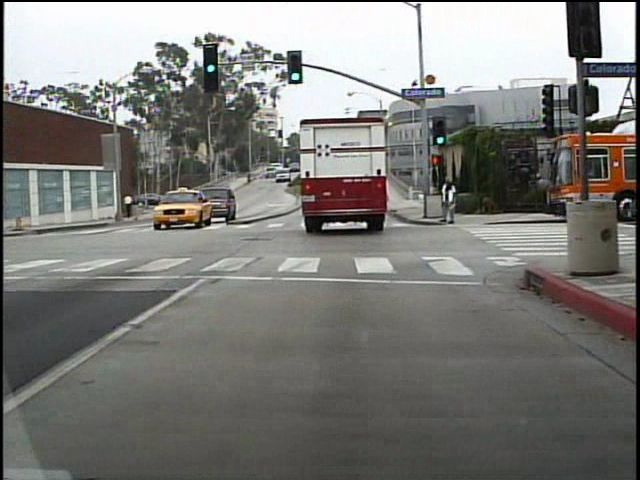person: (436, 174, 461, 228), (122, 188, 139, 220)
